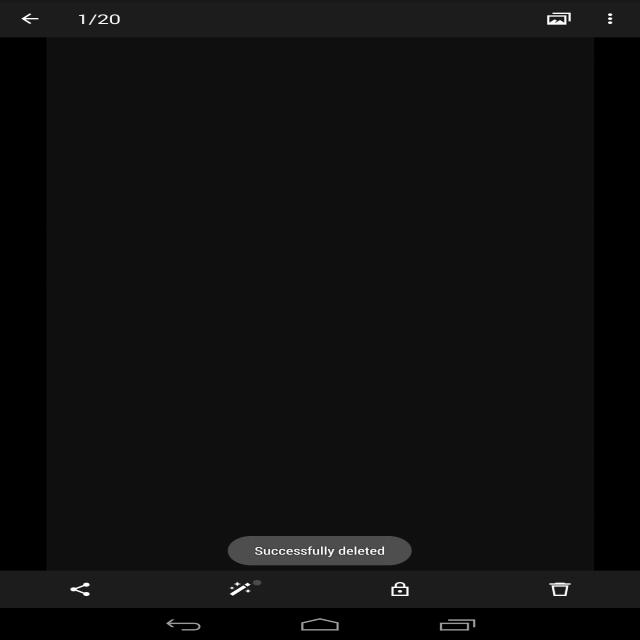ImageButton: (536, 576, 582, 599), (216, 577, 266, 598), (536, 7, 582, 29), (58, 578, 104, 600), (12, 6, 48, 28), (383, 577, 415, 599), (596, 8, 622, 30)
TextView: (249, 544, 386, 557), (75, 11, 122, 29)
